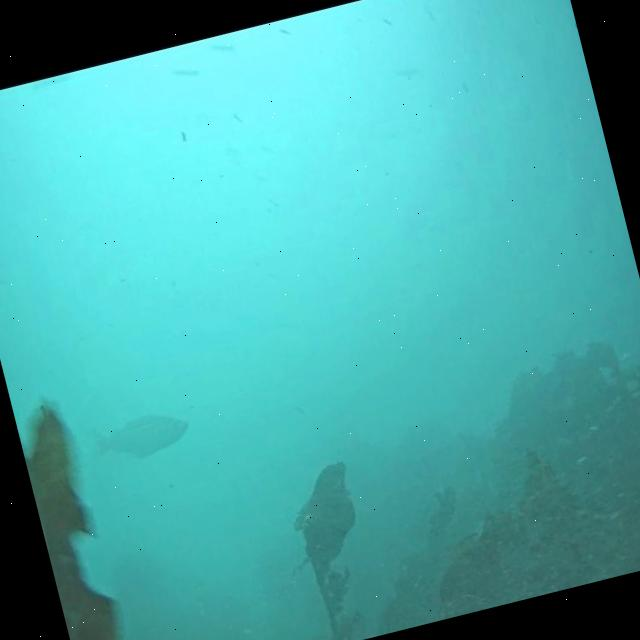fish: (89, 407, 198, 478)
